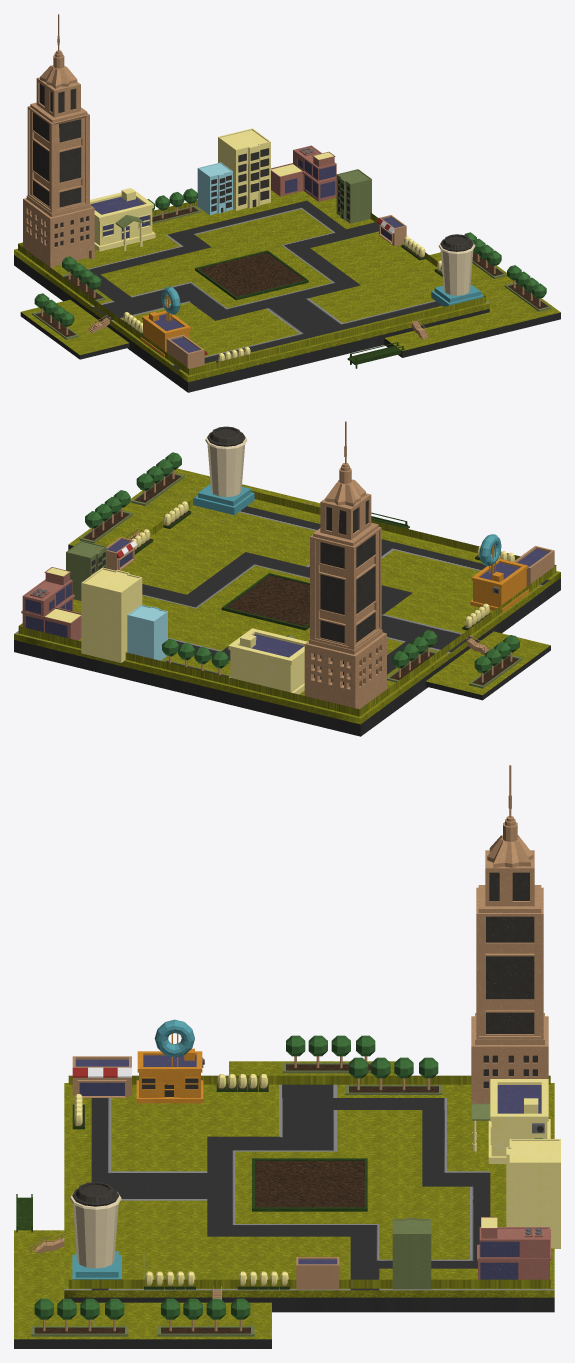
File: map_city.fbx
The picture shows the model from 3 angles, top to bottom: view 1: azimuth 30°, elevation 25°; view 2: azimuth 150°, elevation 25°; view 3: azimuth 270°, elevation 25°; orthographic projection. The views are drawn at different scales.
Parts seen in each view (by area): view 1: Plane.023, town:Объект_КF, Plane.024, Plane.001, fence, Объект_Куб.025, Объект_Куб.033, Объект_Куб.029, house:Объект_КF, Plane.002, Объект_Куб.009, Объект_Куб.028 (+10 smaller); view 2: Plane.023, town:Объект_КF, Plane.001, fence, Объект_Куб.025, Объект_Куб.029, Объект_Куб.009, Объект_Куб.033, house:Объект_КF, Plane.024, Plane.002, Объект_Куб.028 (+10 smaller); view 3: Plane.023, town:Объект_КF, Plane.024, Объект_Куб.033, fence, Plane.001, Объект_Куб.025, Объект_Куб.029, Объект_Куб.028, Объект_Куб.009, house:Объект_КF, Объект_Куб.027 (+10 smaller).
Part boxes in pixels (x1,y1,x2,y2): Plane.023: (14,190,489,382); town:Объект_КF: (23,14,94,268); Plane.024: (384,252,560,357); Plane.001: (14,255,489,392); fence: (18,200,485,375); Объект_Куб.025: (218,128,270,210); Объект_Куб.033: (195,250,308,300); Объект_Куб.029: (90,188,155,251); house:Объект_КF: (271,145,336,201); Plane.002: (20,299,129,359); Объект_Куб.009: (431,234,483,306); Объект_Куб.028: (140,286,190,357); Plane.023: (14,499,560,724); town:Объект_КF: (304,421,386,709); Plane.001: (14,578,560,736); fence: (18,490,556,716); Объект_Куб.025: (81,567,142,662); Объект_Куб.029: (228,628,307,694); Объект_Куб.009: (194,426,254,515); Объект_Куб.033: (221,573,309,630); house:Объект_КF: (21,567,81,640); Plane.024: (68,468,320,549); Plane.002: (425,631,550,700); Объект_Куб.028: (470,534,529,612); Plane.023: (64,1083,554,1297); town:Объект_КF: (471,765,548,1117); Plane.024: (14,1230,271,1348); Объект_Куб.033: (252,1158,367,1211); fence: (68,1075,550,1288); Plane.001: (64,1297,554,1312); Объект_Куб.025: (506,1139,560,1248); Объект_Куб.029: (471,1079,550,1163); Объект_Куб.028: (136,1019,204,1103); Объект_Куб.009: (70,1182,121,1279); house:Объект_КF: (477,1217,550,1279); Объект_Куб.027: (392,1218,431,1289).
Bounding box in the file's own units: 81.5 × 49.23 × 67.77.
